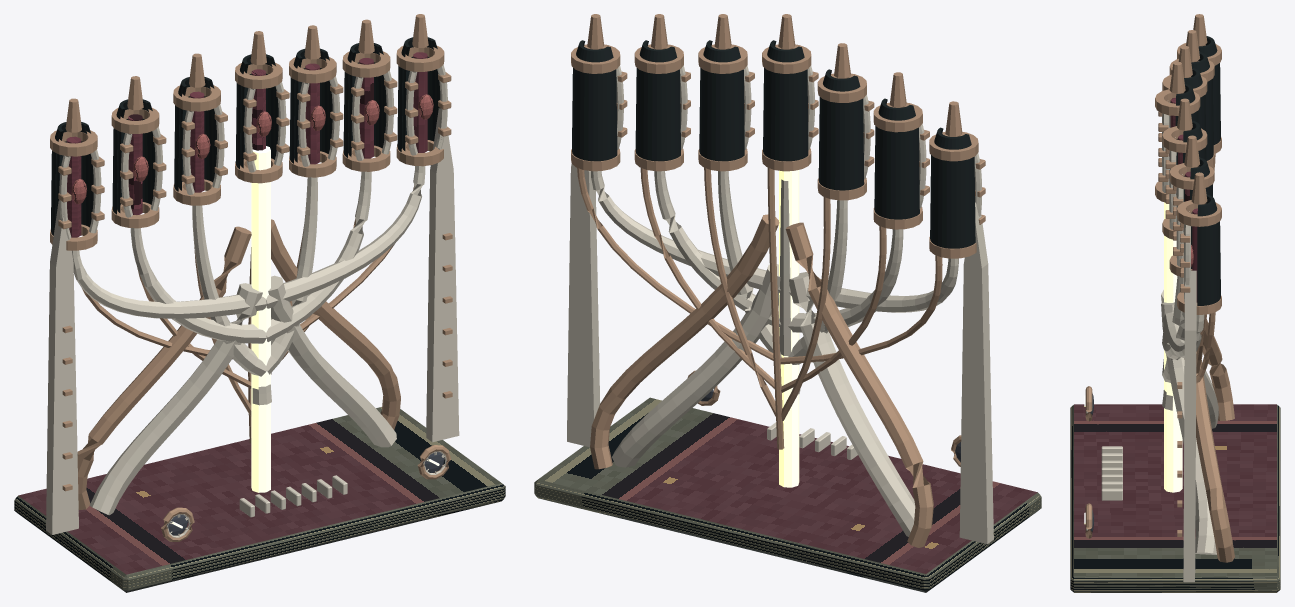
File: foundry_lamp_manifold.glb
The picture shows the model from 3 angles, left to right: view 1: azimuth 30°, elevation 25°; view 2: azimuth 150°, elevation 25°; view 3: azimuth 270°, elevation 25°; orthographic projection. The views are drawn at different scales.
Visible parts, largest first — view 1: foundry_lamp_manifold_petrol, foundry_lamp_manifold_warm, foundry_lamp_manifold_worn, foundry_lamp_manifold_bruised, foundry_lamp_manifold_sick, foundry_lamp_manifold_suture; view 2: foundry_lamp_manifold_petrol, foundry_lamp_manifold_warm, foundry_lamp_manifold_worn, foundry_lamp_manifold_sick; view 3: foundry_lamp_manifold_petrol, foundry_lamp_manifold_worn, foundry_lamp_manifold_warm, foundry_lamp_manifold_sick, foundry_lamp_manifold_bruised.
Part boxes in pixels (bbox=[...]): foundry_lamp_manifold_petrol: bbox=[14, 37, 505, 592]; foundry_lamp_manifold_warm: bbox=[46, 65, 459, 537]; foundry_lamp_manifold_worn: bbox=[50, 14, 452, 541]; foundry_lamp_manifold_bruised: bbox=[66, 52, 427, 237]; foundry_lamp_manifold_sick: bbox=[172, 146, 439, 528]; foundry_lamp_manifold_suture: bbox=[71, 94, 433, 204]; foundry_lamp_manifold_petrol: bbox=[534, 40, 1041, 592]; foundry_lamp_manifold_warm: bbox=[567, 65, 993, 544]; foundry_lamp_manifold_worn: bbox=[571, 14, 985, 547]; foundry_lamp_manifold_sick: bbox=[779, 170, 799, 487]; foundry_lamp_manifold_petrol: bbox=[1070, 36, 1280, 592]; foundry_lamp_manifold_worn: bbox=[1085, 14, 1234, 562]; foundry_lamp_manifold_warm: bbox=[1086, 102, 1218, 582]; foundry_lamp_manifold_sick: bbox=[1084, 169, 1182, 524]; foundry_lamp_manifold_bruised: bbox=[1170, 97, 1197, 302].
Bounding box in the file's own units: 6.06 × 6.74 × 2.9.
7 materials, 3 textured.
